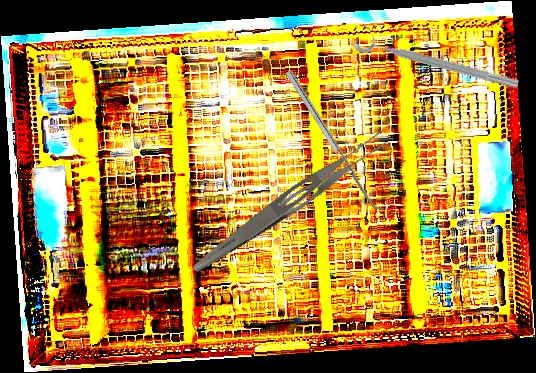Dressing Forceps: (188, 125, 393, 283)
Fixation Ring: (352, 22, 523, 94)
Spatula Surgical: (285, 66, 386, 216)
